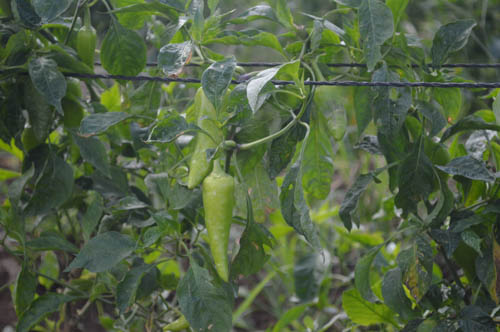ChiliPepper: (188, 89, 229, 190), (201, 172, 235, 273), (317, 88, 348, 136)
